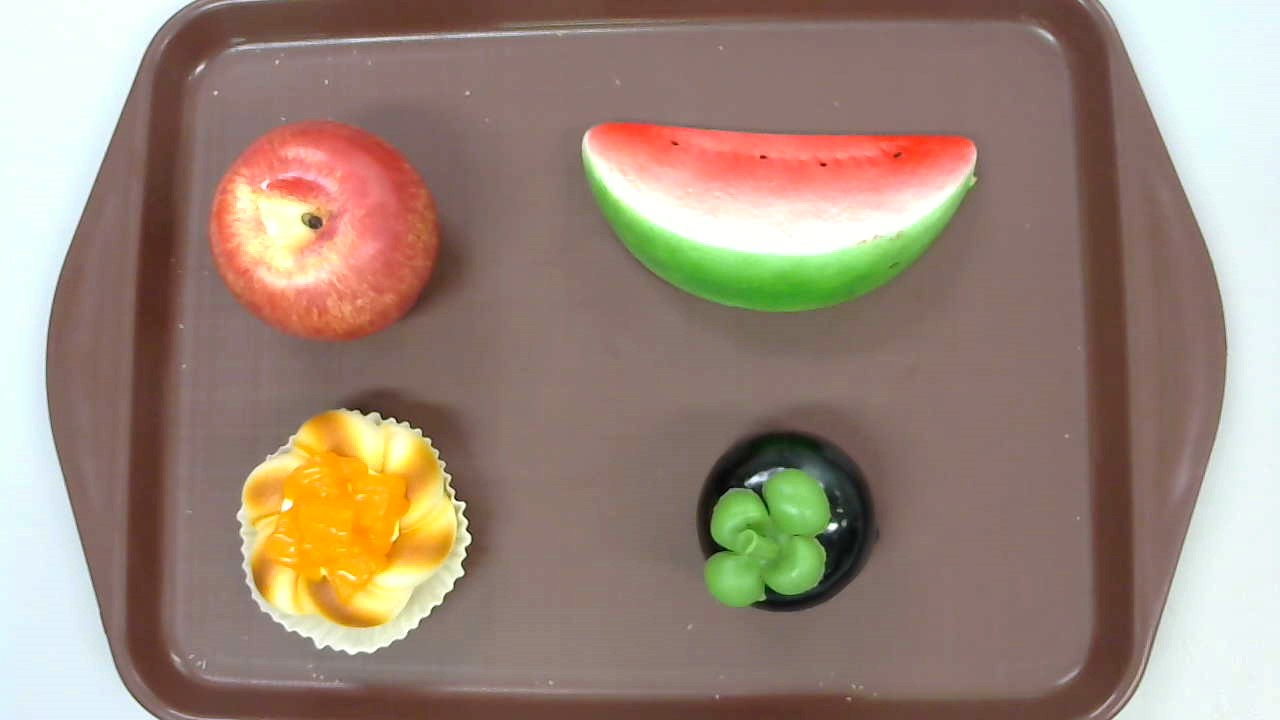mango tart: (235, 407, 472, 655)
mangosteen: (695, 428, 883, 616)
red apple: (208, 119, 441, 345)
water melon: (580, 121, 976, 315)
